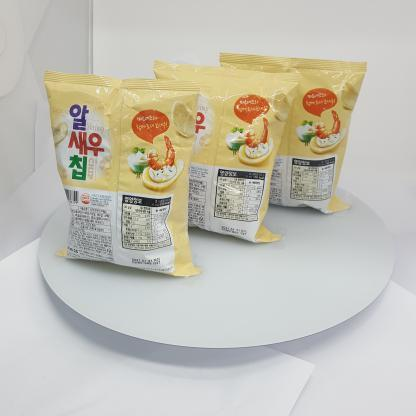Plastic Packaging: (36, 44, 198, 278), (153, 60, 301, 242), (262, 57, 366, 212), (44, 70, 118, 198)
